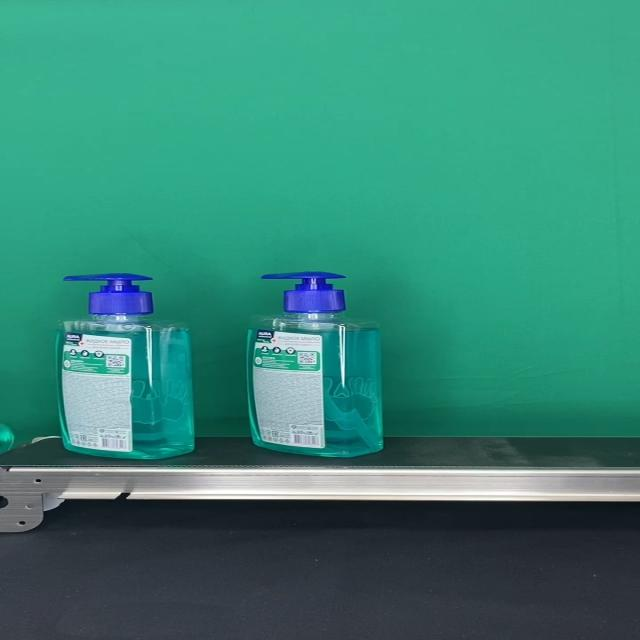Bottle: (54, 274, 195, 461), (245, 272, 384, 458)
Cap: (64, 274, 156, 316), (260, 272, 350, 313)
